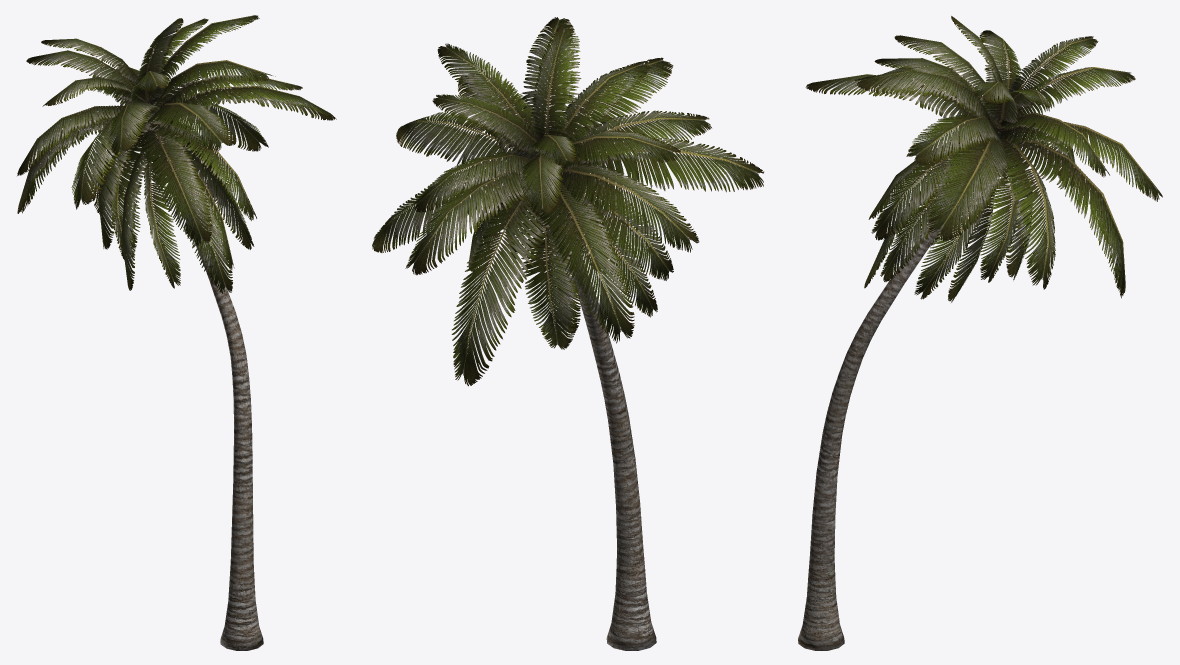
File: Palmu1_2.fbx
The picture shows the model from 3 angles, left to right: view 1: azimuth 30°, elevation 25°; view 2: azimuth 150°, elevation 25°; view 3: azimuth 270°, elevation 25°; orthographic projection. The views are drawn at different scales.
Parts seen in each view (by area): view 1: Palmu1; view 2: Palmu1; view 3: Palmu1.
Part boxes in pixels (x1=…): Palmu1: x1=17, y1=15, x2=336, y2=650; Palmu1: x1=372, y1=17, x2=763, y2=650; Palmu1: x1=798, y1=16, x2=1162, y2=650.
Size of the model in its own units: 524 by 989 by 527.
